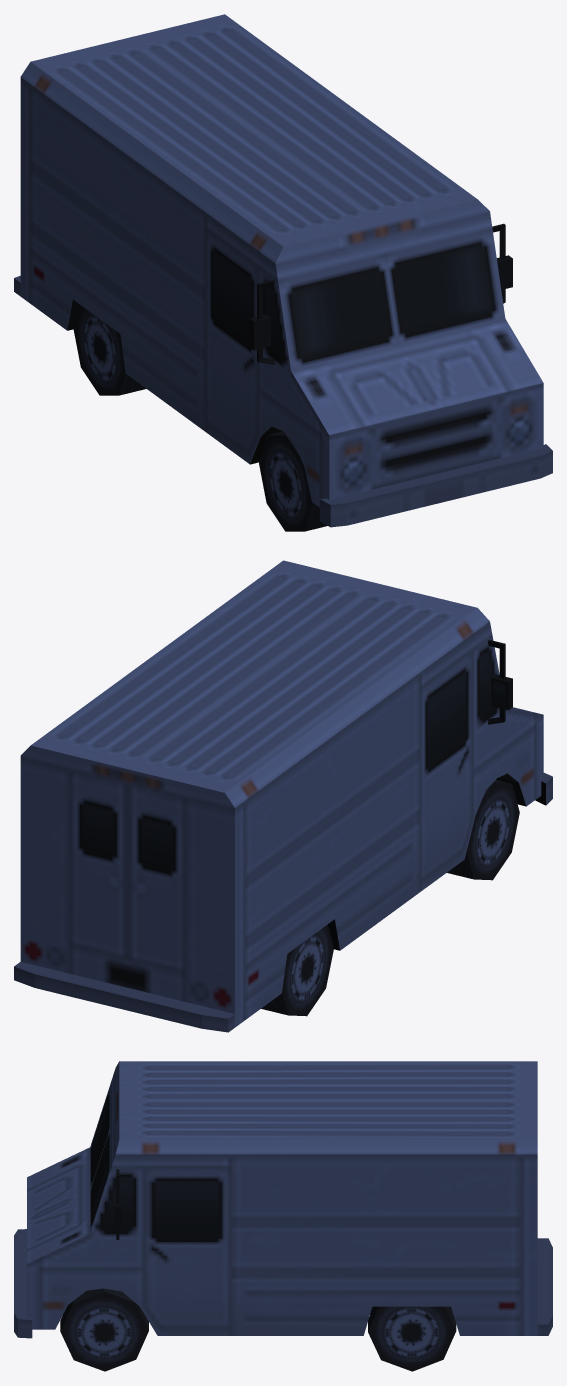
3 renders of one model, top to bottom at view 1: azimuth 30°, elevation 25°; view 2: azimuth 150°, elevation 25°; view 3: azimuth 270°, elevation 25°, orthographic. The views are drawn at different scales.
Visible parts, largest first — view 1: car8; view 2: car8; view 3: car8.
Boxes of the visible parts, box(x1,y1,x2,y2) form: car8: box(14, 14, 552, 531); car8: box(14, 560, 552, 1032); car8: box(14, 1061, 552, 1371).
Size of the model in its own units: 3.17 by 3.23 by 6.89.
Materials: 1 (1 with a texture image).
